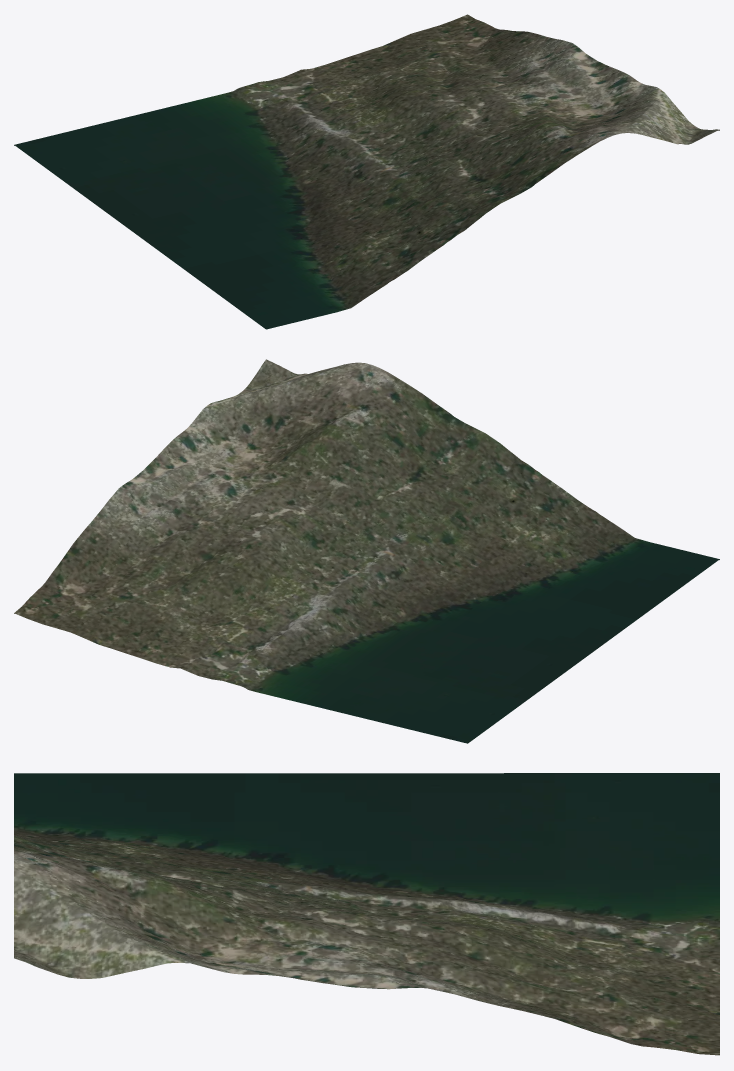
3 views of the same model, one above another, from view 1: azimuth 30°, elevation 25°; view 2: azimuth 150°, elevation 25°; view 3: azimuth 270°, elevation 25° (orthographic). The views are drawn at different scales.
Bounding box in the file's own units: 500 × 116 × 481.
Materials: 1 (1 with a texture image).
